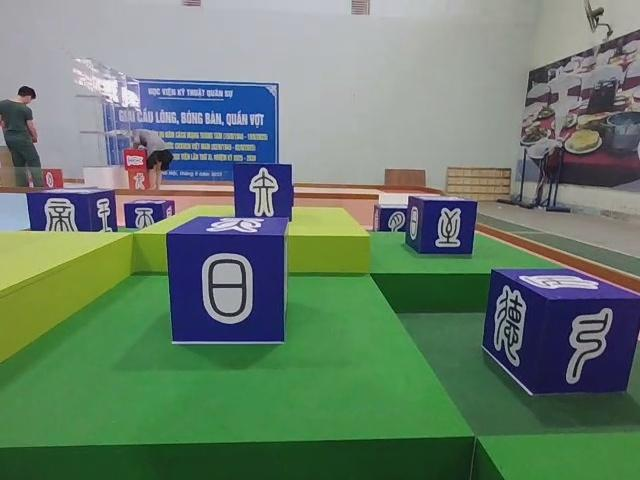R2 Fake Blue: (484, 269, 640, 398), (165, 215, 289, 346), (405, 195, 477, 257), (26, 188, 118, 235), (234, 161, 296, 222), (123, 199, 175, 229), (369, 203, 407, 232)
